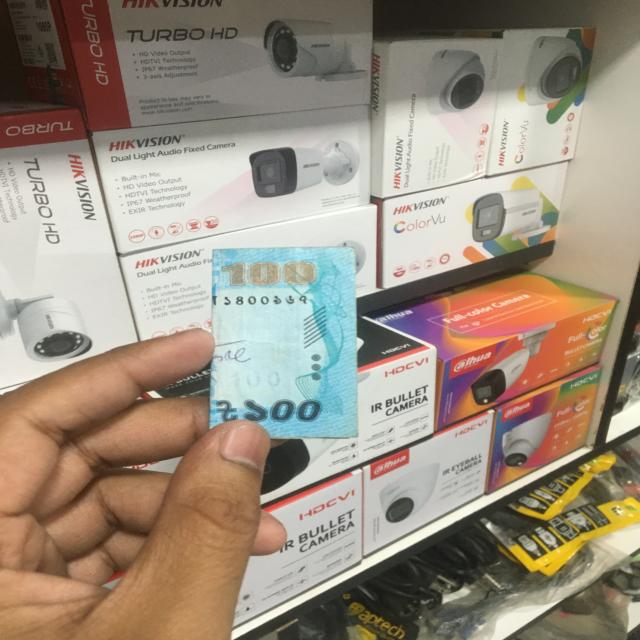Taka: (209, 242, 363, 438)
